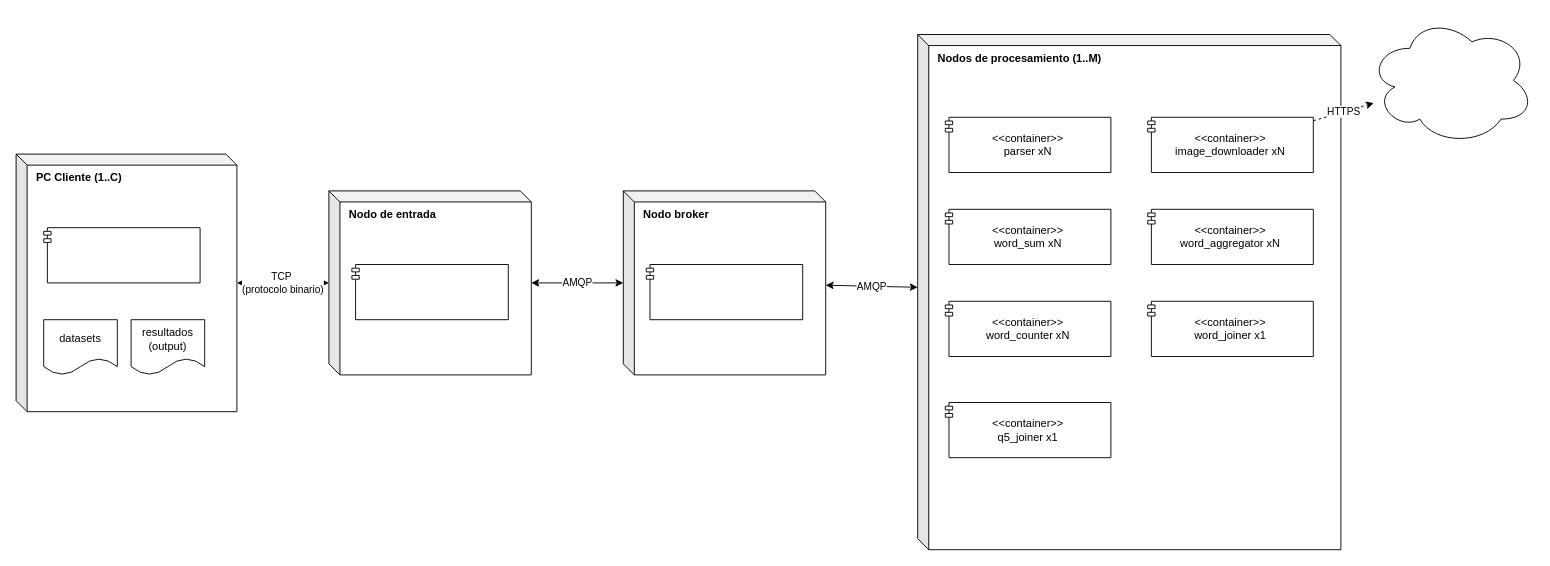
Image size: 1550x566. Some labels were removed from this diagram. Here are the shapes that lost their labels. From the top down, the centre of each, then its label:
the point at 1451,80: <<external>> API de Wikimedia
the point at 121,255: <<process>> client
the point at 429,292: <<container>> gateway x1
the point at 724,292: <<container>> rabbitmq x1
